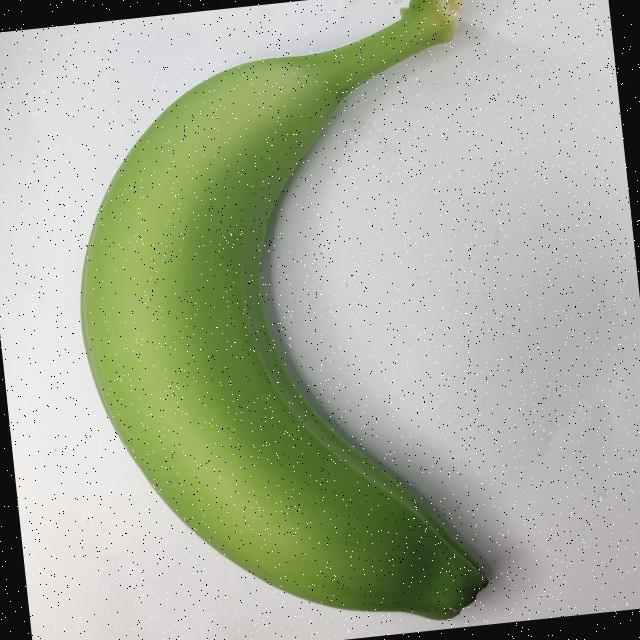Raw: (30, 0, 613, 640)
